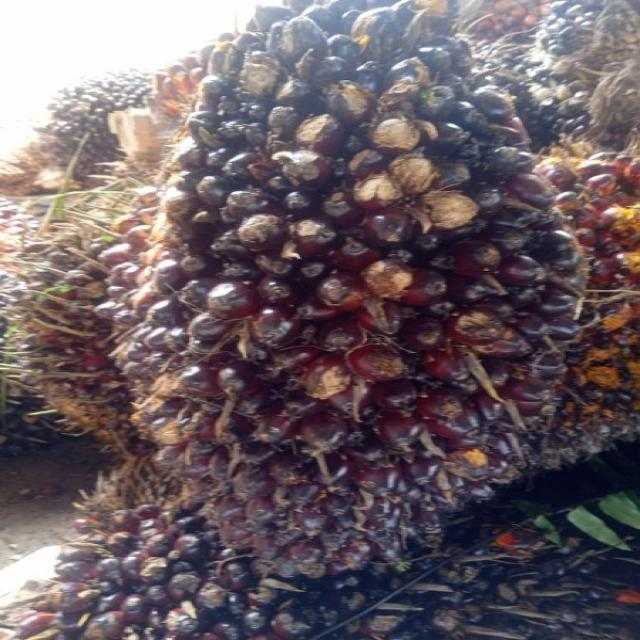fraksi 1: (110, 0, 608, 573)
